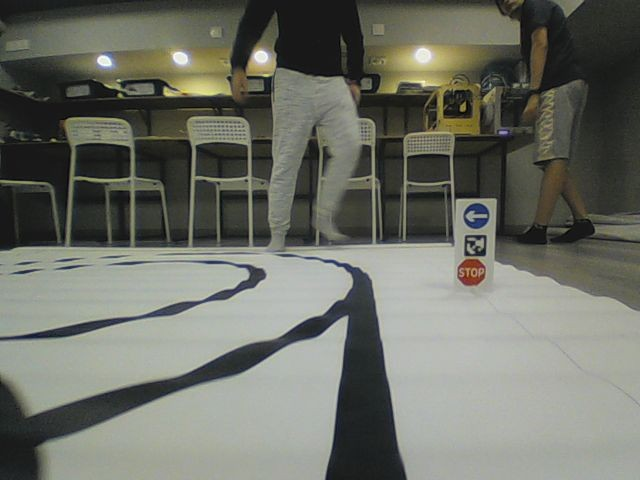Stop: (455, 257, 488, 287)
